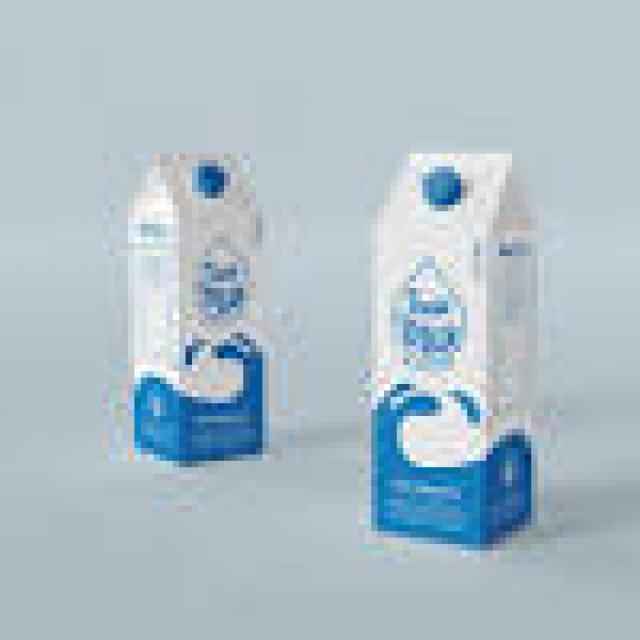non_white_jug: (358, 138, 550, 540), (121, 132, 282, 470)
